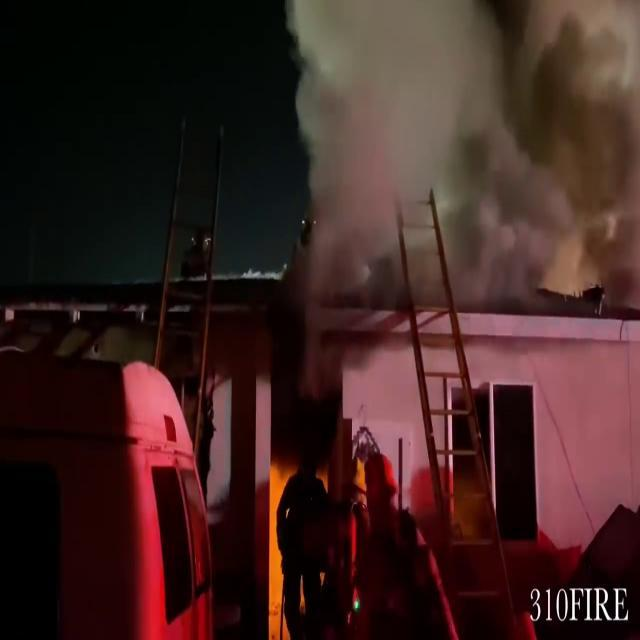Smoke: (276, 0, 640, 296)
